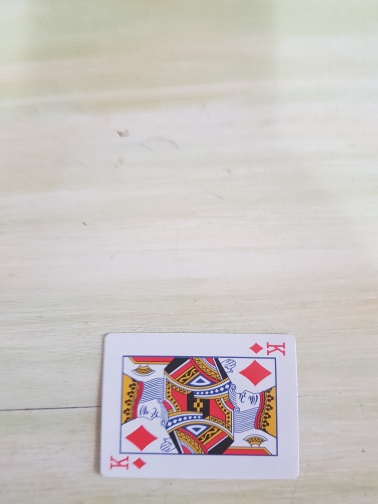king: (99, 330, 301, 480)
